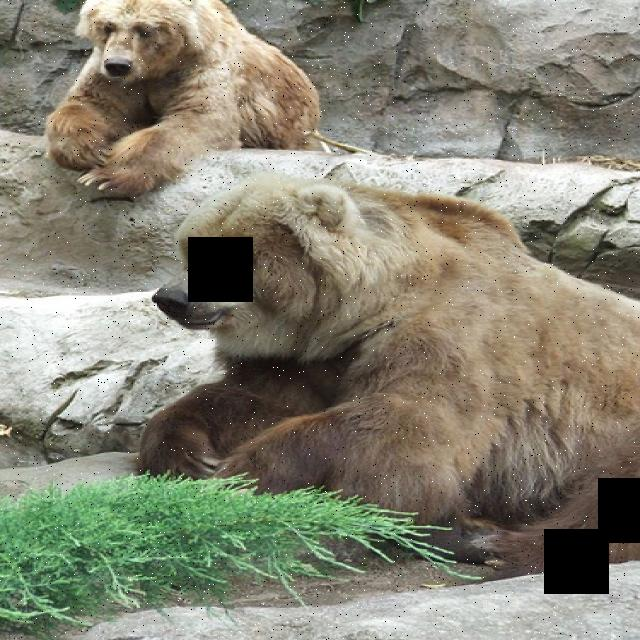Bear: (157, 165, 640, 556), (50, 0, 330, 188)
